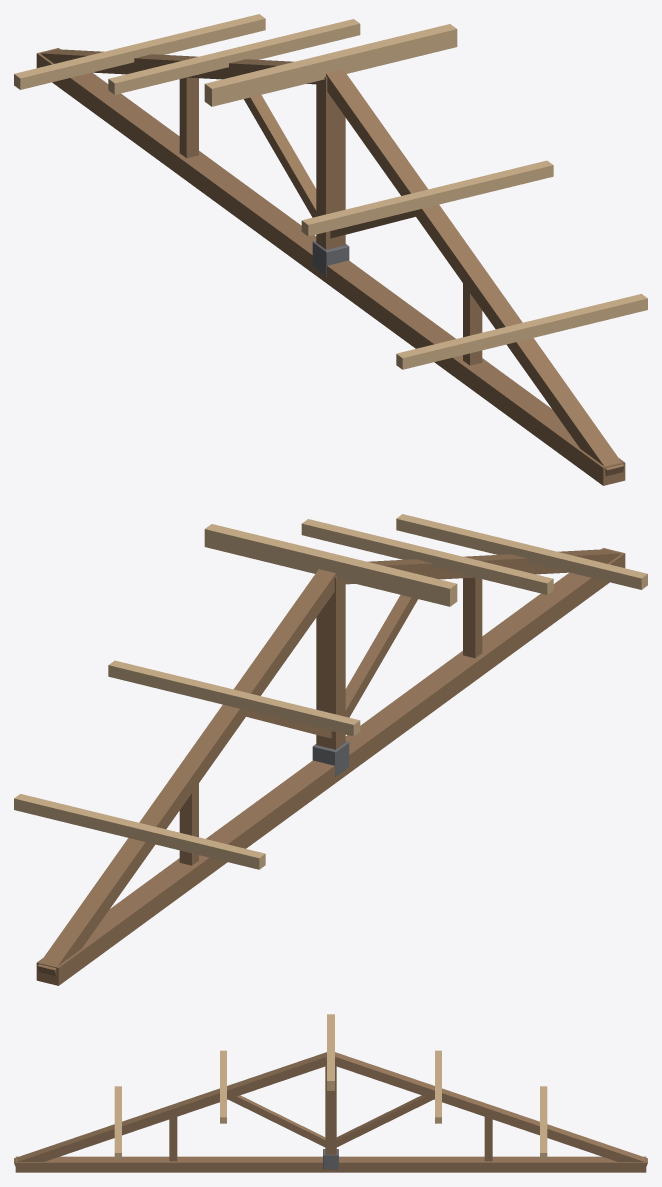
Rendered from wedding-and-chapel-kit-chapel-roof-bay-6c89de0c.glb.
3 renders of one model, top to bottom at view 1: azimuth 30°, elevation 25°; view 2: azimuth 150°, elevation 25°; view 3: azimuth 270°, elevation 25°, orthographic. The views are drawn at different scales.
Parts seen in each view (by area): view 1: chapel-roof-bay; view 2: chapel-roof-bay; view 3: chapel-roof-bay.
Part boxes in pixels (x1,y1,x2,y2): chapel-roof-bay: (14, 14, 647, 485); chapel-roof-bay: (14, 514, 647, 985); chapel-roof-bay: (14, 1014, 647, 1172).
Size of the model in its own units: 2 by 1.71 by 8.04.
